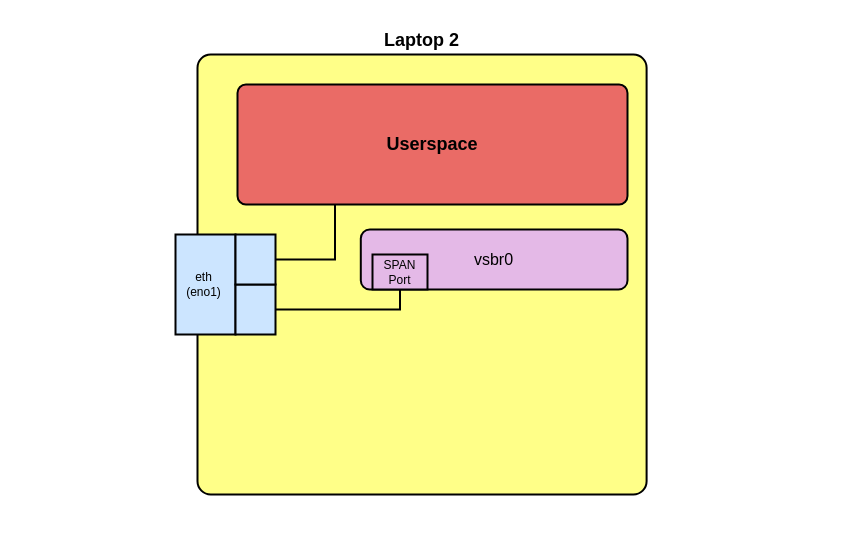
The diagram is 844 pixels wide and 534 high, and some of its shapes have lost their labels. The centre of each missing label's shape, as x and y in pixels:
VLAN 100: [255,259]
VLAN 300: [255,309]
